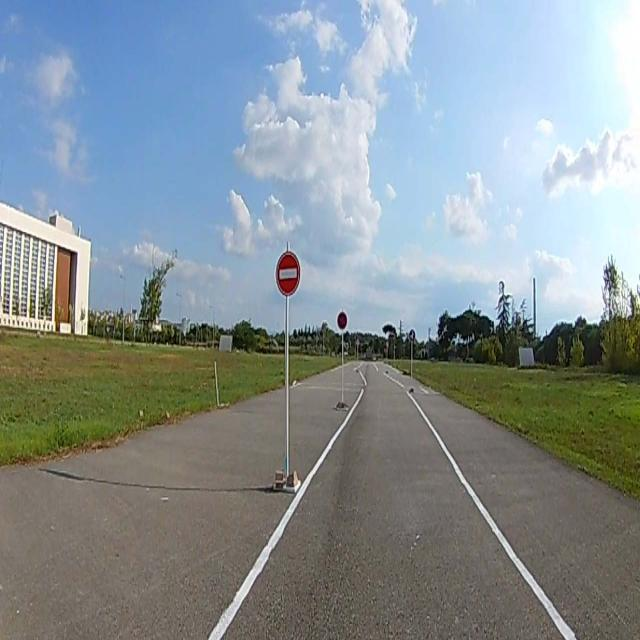girisyok: (276, 249, 300, 298)
